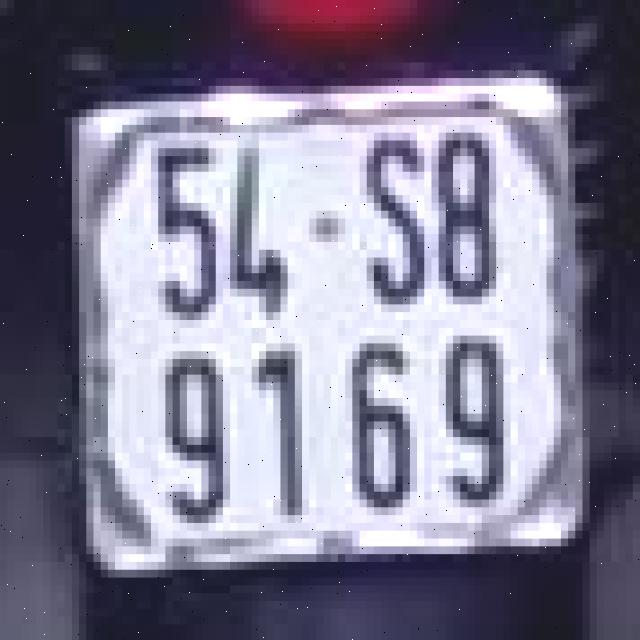1: (237, 332, 324, 534)
4: (227, 125, 291, 320)
5: (140, 133, 220, 320)
6: (334, 332, 414, 519)
8: (432, 117, 504, 312)
9: (428, 324, 514, 511), (158, 343, 238, 531)
S: (352, 113, 432, 316)
